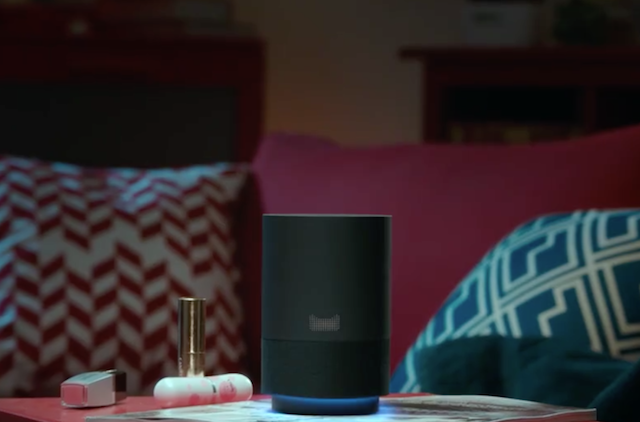audio: (255, 204, 405, 422)
